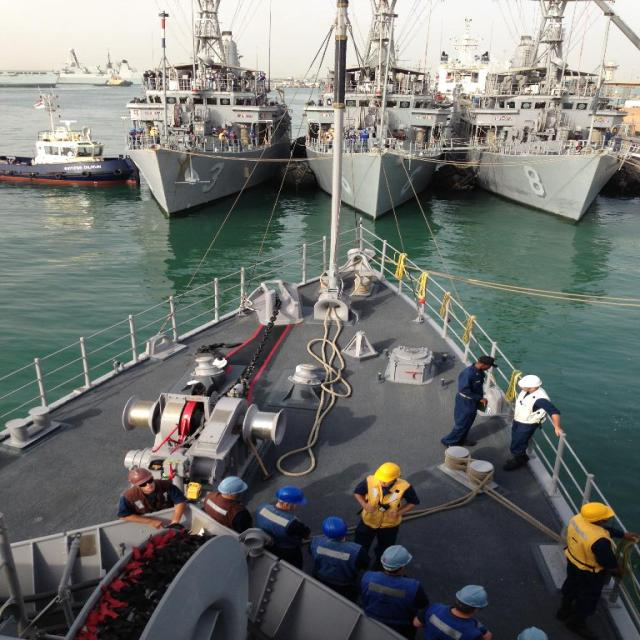Boat: (0, 221, 639, 639), (451, 0, 640, 228), (94, 18, 316, 189), (306, 0, 448, 220), (0, 86, 142, 190), (58, 48, 145, 82), (102, 68, 134, 86)
